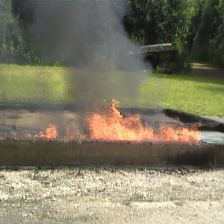fire_h: (64, 98, 202, 143), (24, 123, 58, 138)
